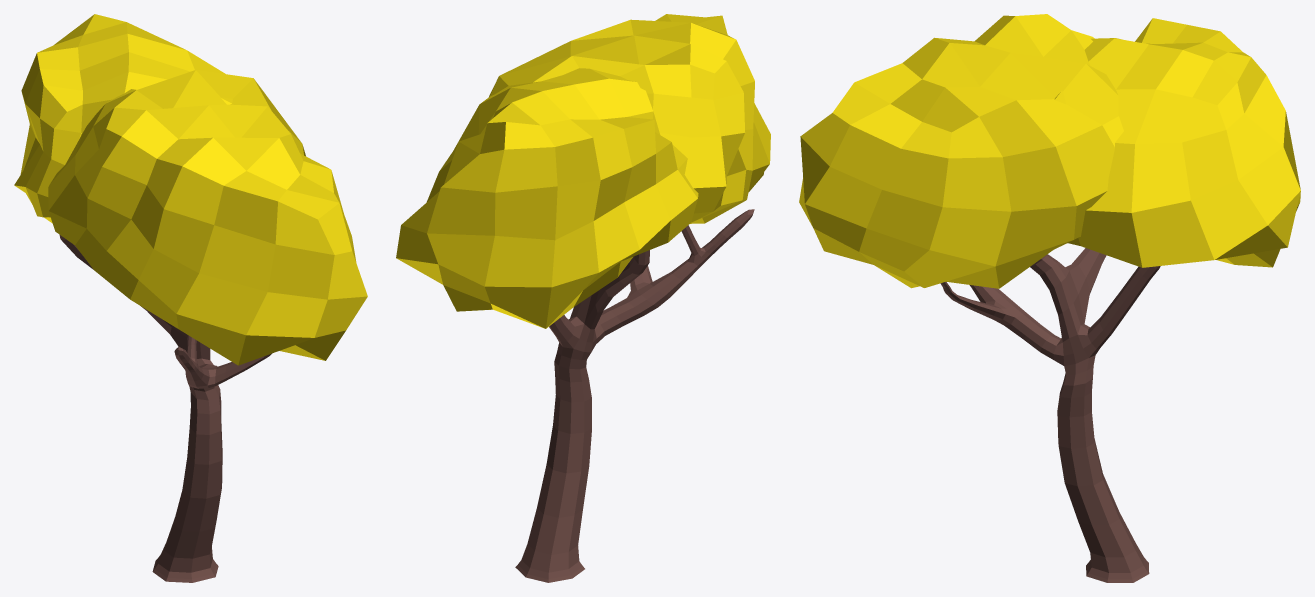
File: Araguaney.glb
3 views of the same model, side by side, from view 1: azimuth 30°, elevation 25°; view 2: azimuth 150°, elevation 25°; view 3: azimuth 270°, elevation 25° (orthographic). The views are drawn at different scales.
Visible parts, largest first — view 1: CommonTree_Autumn_5; view 2: CommonTree_Autumn_5; view 3: CommonTree_Autumn_5.
Boxes of the visible parts, box(x1,y1,x2,y2) form: CommonTree_Autumn_5: box(14, 14, 367, 582); CommonTree_Autumn_5: box(396, 14, 770, 582); CommonTree_Autumn_5: box(799, 14, 1300, 582).
Bounding box in the file's own units: 1.29 × 2.53 × 2.25.
